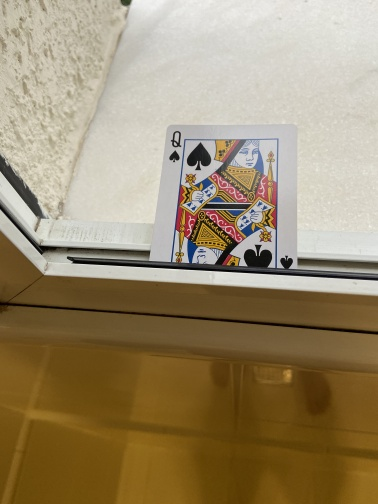queen: (142, 122, 299, 311)
